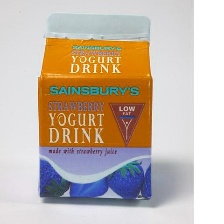carton: (34, 8, 161, 207)
